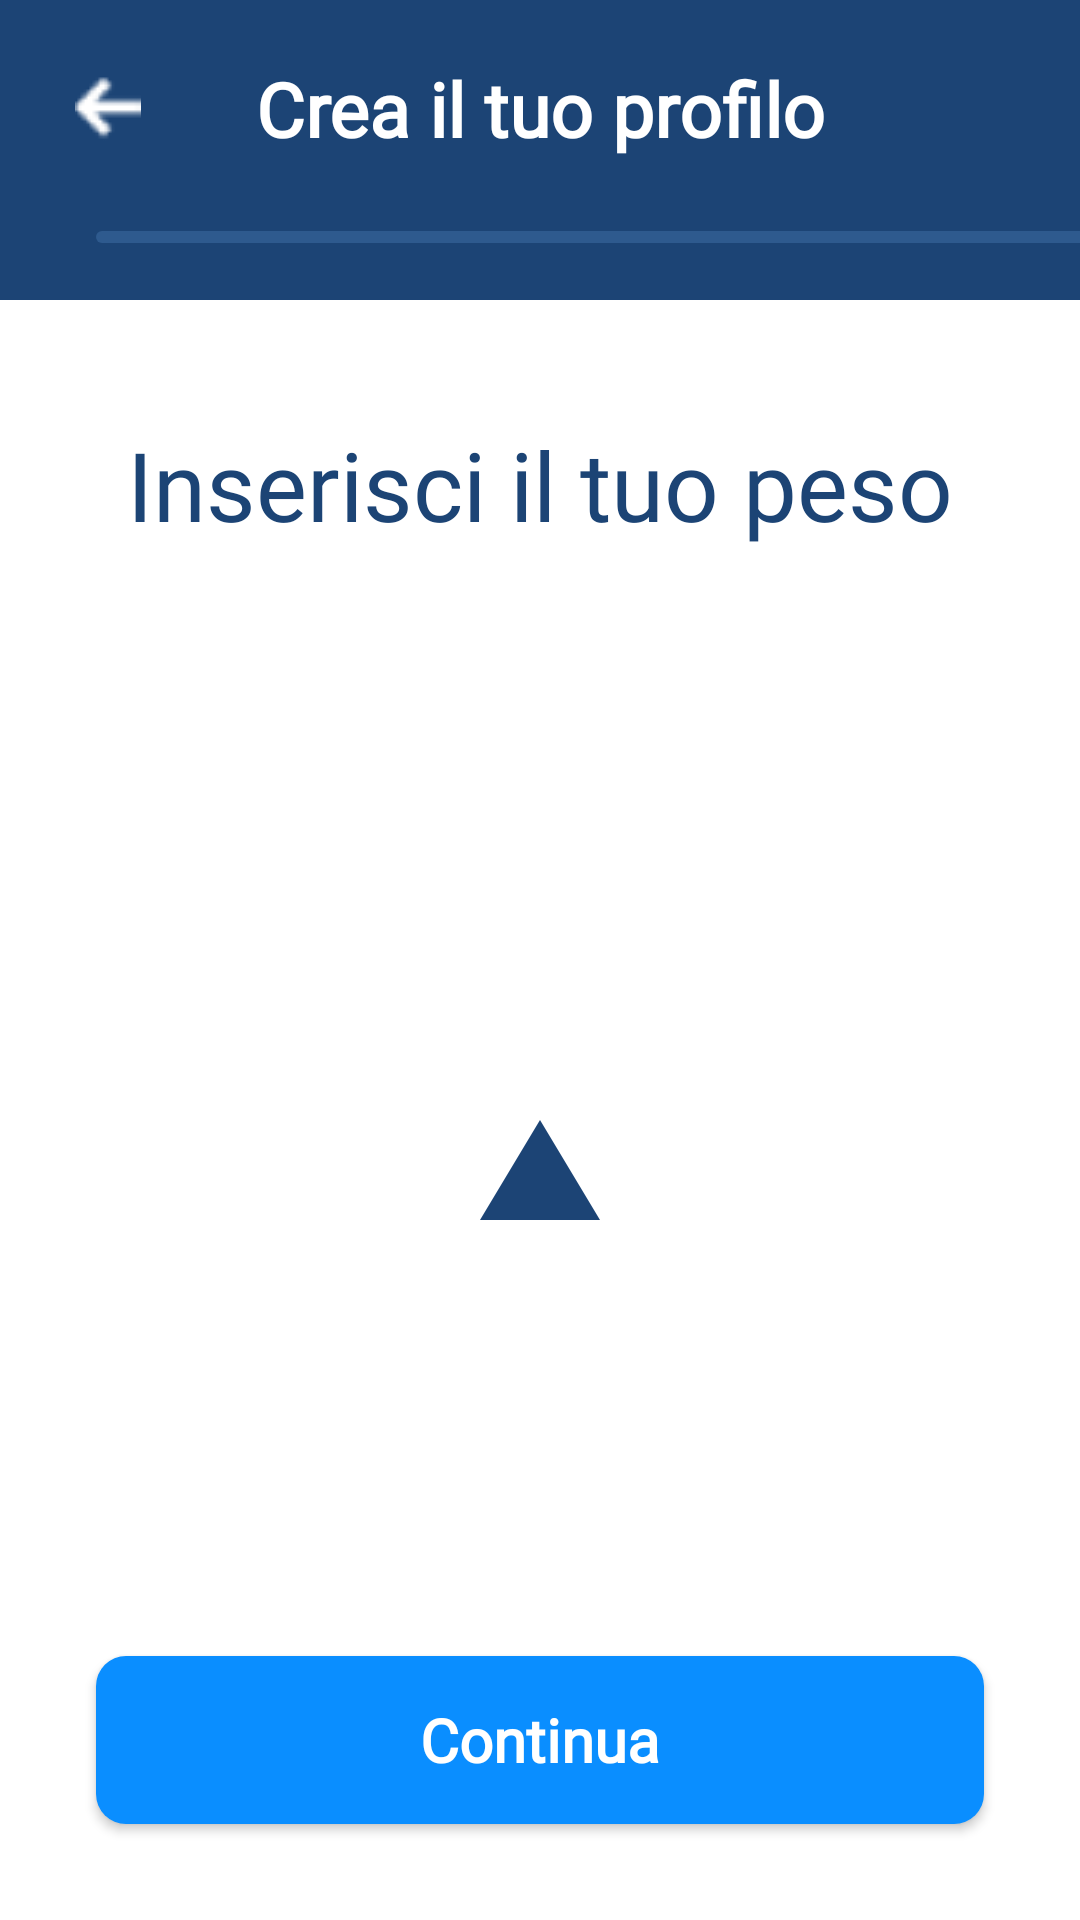

Named icons in this screenshot (1080 x 1920) and their centers, (x,y):
arrow back: (108,107)
